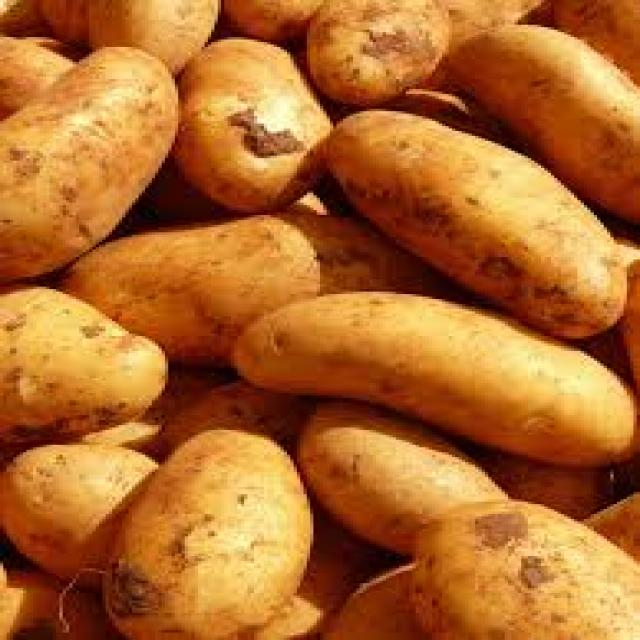Potato: (220, 271, 638, 463), (0, 47, 195, 277), (121, 432, 316, 632)
